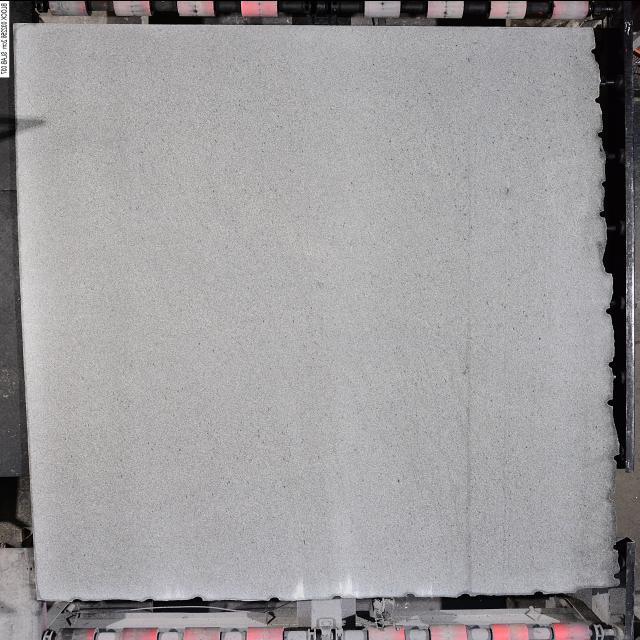chapa: (15, 24, 618, 599)
veio: (593, 94, 606, 105), (611, 570, 625, 580), (598, 208, 610, 218), (604, 306, 616, 316), (606, 360, 618, 370), (605, 398, 617, 407), (530, 590, 545, 596)
